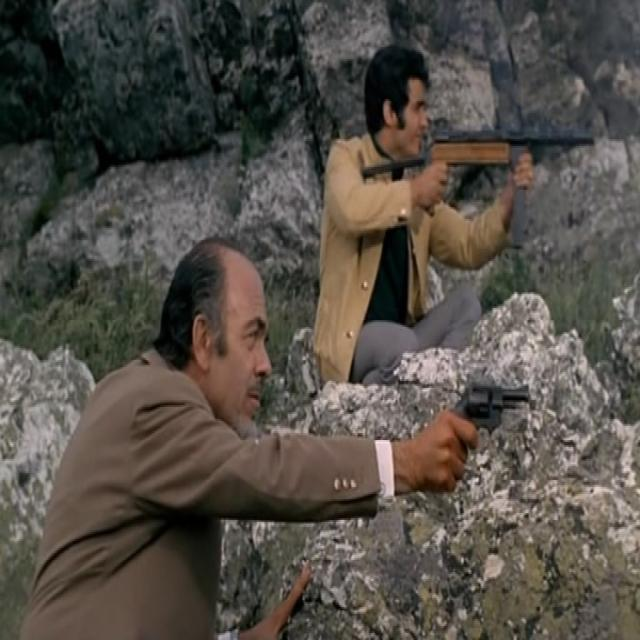rifle: (366, 128, 598, 247)
